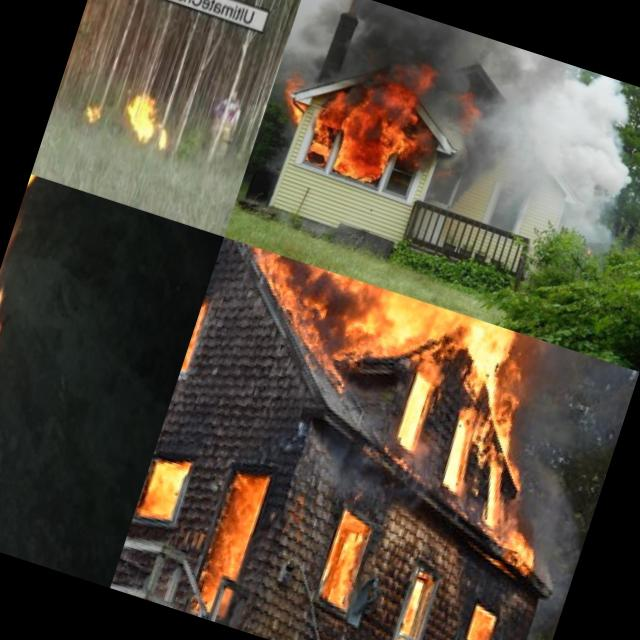fire: (191, 240, 559, 480), (301, 82, 431, 194), (195, 456, 282, 616), (480, 520, 547, 586), (117, 90, 182, 152), (380, 55, 446, 114), (438, 86, 488, 138), (274, 75, 318, 128), (447, 599, 501, 640), (78, 90, 118, 136)
smoke: (443, 40, 640, 257), (288, 0, 469, 92), (398, 122, 492, 215), (504, 449, 596, 543), (525, 534, 583, 618)
